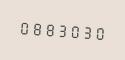eight: (30, 17, 42, 38), (43, 18, 55, 39)
three: (56, 19, 68, 40), (82, 21, 94, 42)
zero: (17, 16, 29, 37), (69, 20, 81, 41), (95, 22, 107, 43)
